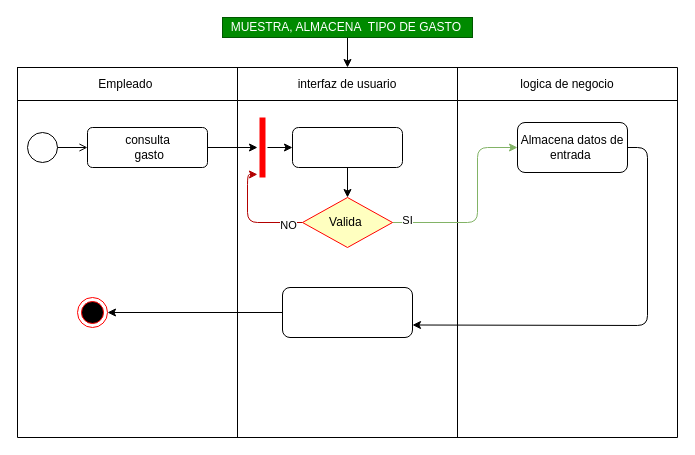
Image size: 695x455. Some labels were removed from this diagram. The shapes that lost their labels are listed below. From the top down, each one's box as (x1, y1, x2, y2) in pixels, then its label:
(292, 126, 402, 168): Ingresa Nombre del gasto
(282, 286, 412, 338): Muestra datos de entrada
